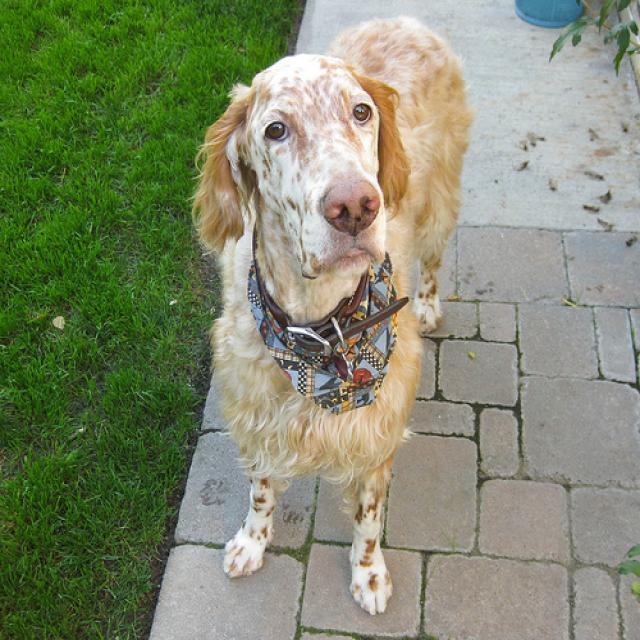dog-english_setter: (182, 1, 477, 623)
